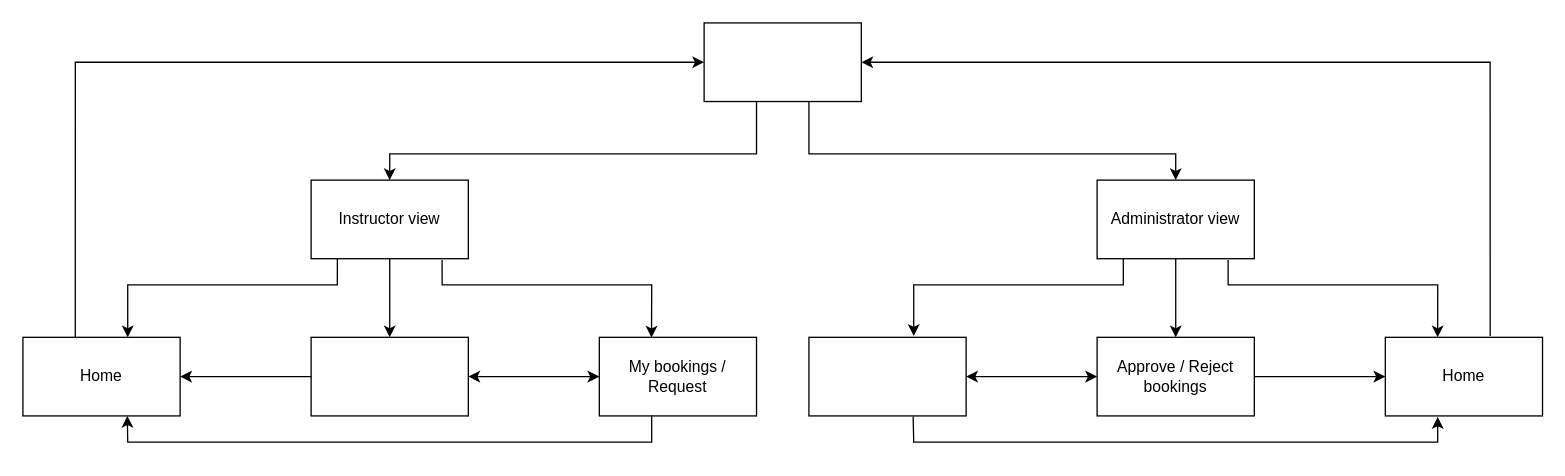
Image size: 1565x476. Some labels were removed from this diagram. The shapes that lost their labels are listed below. From the top down, each one's centre as x and y in pixels, then its label:
point 782,62: HomePage
point 389,376: View Rooms
point 887,376: Manage Rooms
